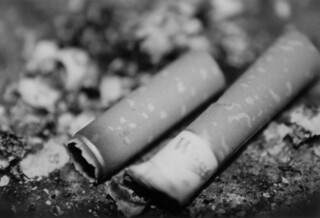cigarette: (124, 24, 320, 211), (66, 46, 229, 186)
